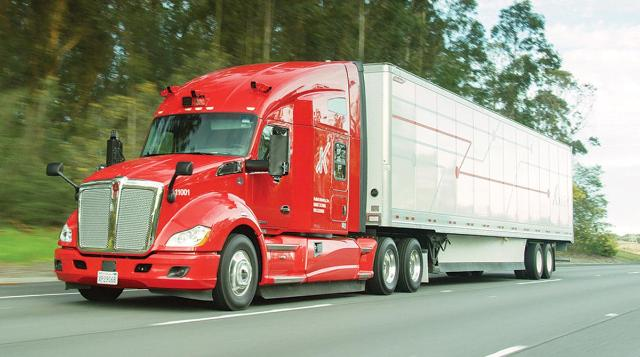truck: (51, 29, 579, 285)
